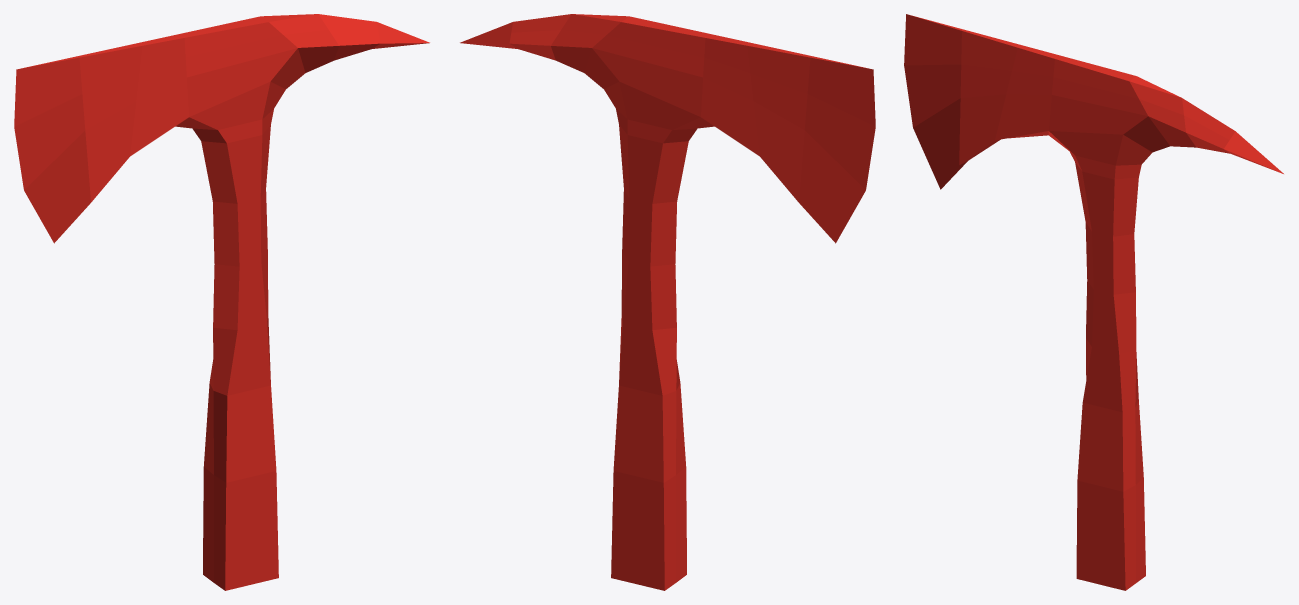
Rendered from TomahawkModel.fbx.
The picture shows the model from 3 angles, left to right: view 1: azimuth 30°, elevation 25°; view 2: azimuth 150°, elevation 25°; view 3: azimuth 330°, elevation 25°; orthographic projection. The views are drawn at different scales.
Visible parts, largest first — view 1: Plane.001; view 2: Plane.001; view 3: Plane.001.
Boxes of the visible parts, <box> form: Plane.001: <box>14,14,429,590</box>; Plane.001: <box>460,14,875,590</box>; Plane.001: <box>904,14,1283,590</box>.
Bounding box in the file's own units: 567 × 730 × 52.8.
